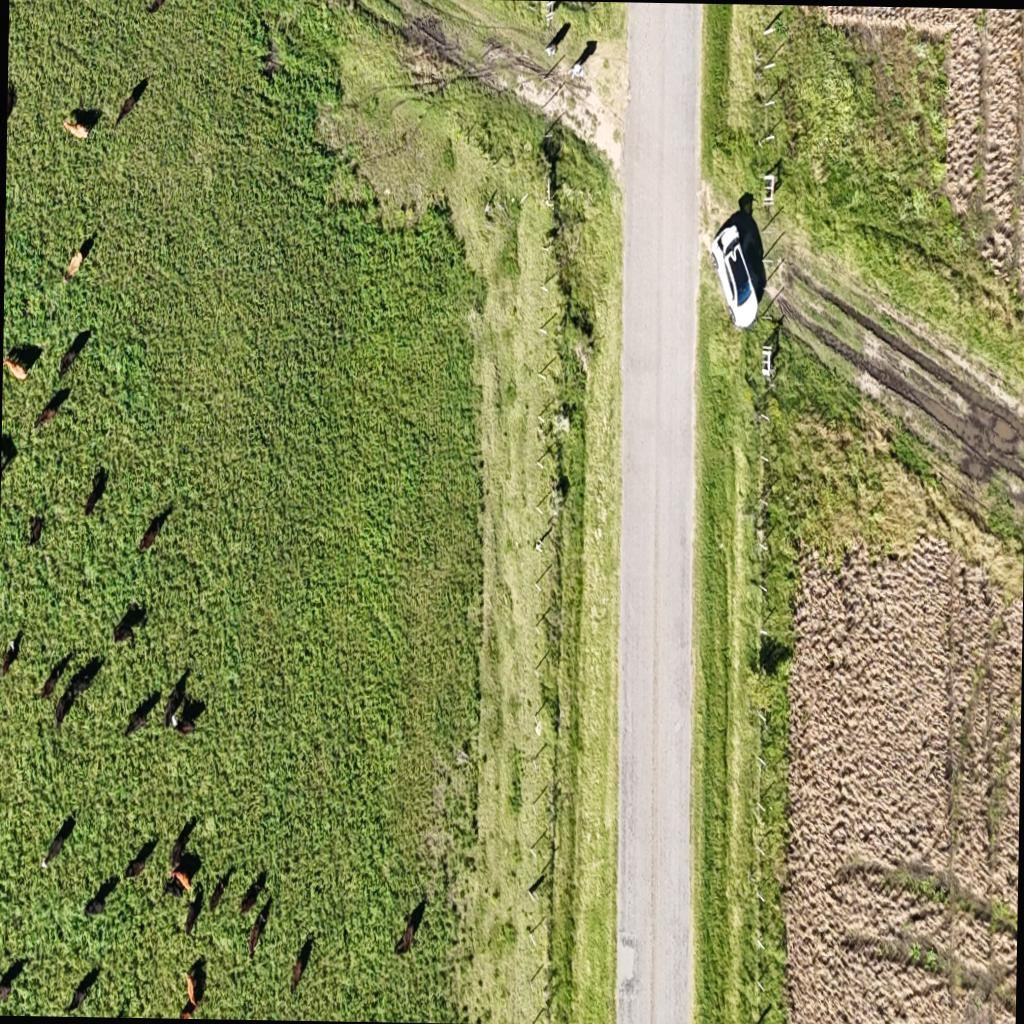cow: (54, 658, 102, 732), (161, 670, 201, 735), (394, 896, 426, 957), (40, 814, 74, 870), (34, 384, 72, 432), (122, 690, 160, 738), (64, 230, 97, 284), (56, 328, 90, 380), (136, 504, 172, 552), (114, 76, 148, 126), (62, 966, 98, 1012), (2, 340, 43, 380), (38, 650, 72, 698), (178, 960, 206, 1018), (168, 816, 196, 872), (84, 874, 118, 920), (124, 834, 158, 880), (167, 850, 201, 895), (62, 105, 102, 143), (112, 600, 145, 646), (247, 894, 270, 960), (82, 466, 108, 518), (239, 867, 267, 915), (0, 956, 28, 1003), (290, 935, 312, 994), (0, 628, 23, 677), (184, 882, 204, 936), (208, 866, 230, 912), (0, 428, 20, 478), (260, 36, 280, 80), (27, 512, 43, 547), (1, 432, 11, 473), (6, 82, 14, 122), (149, 0, 170, 13)
